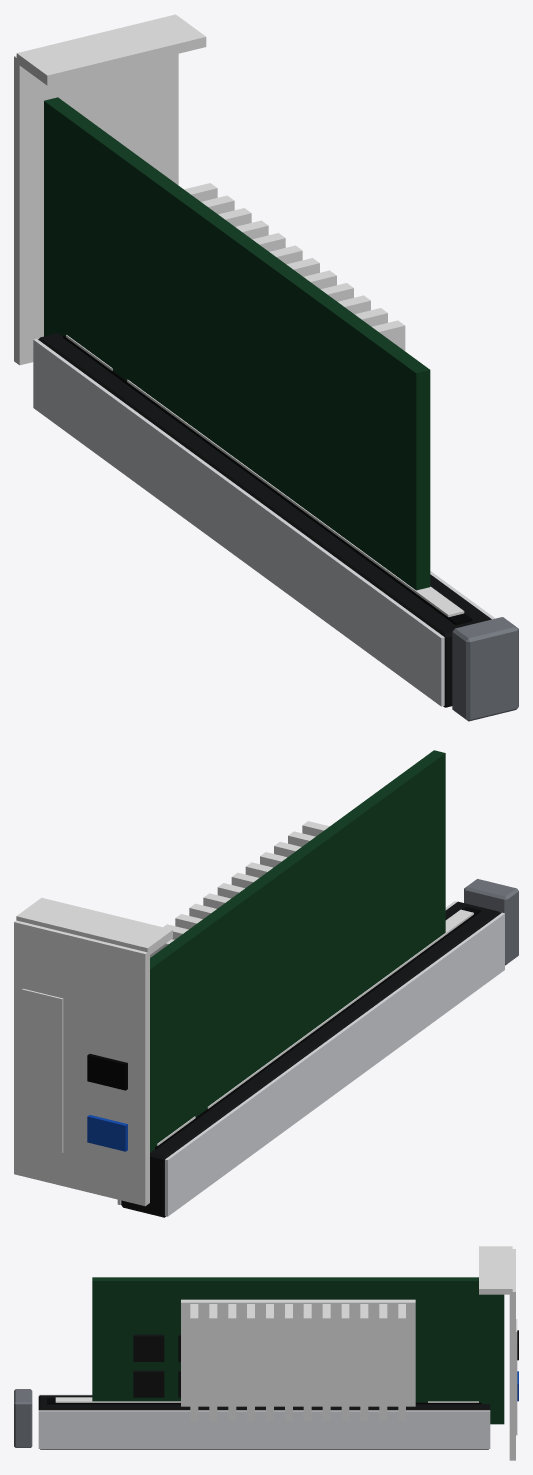
The model's file is hwm_gpu_gt710.glb.
3 renders of one model, top to bottom at view 1: azimuth 30°, elevation 25°; view 2: azimuth 150°, elevation 25°; view 3: azimuth 270°, elevation 25°, orthographic. The views are drawn at different scales.
Parts seen in each view (by area): view 1: Card_0, Slot_0; view 2: Card_0, Slot_0; view 3: Card_0, Slot_0.
Part boxes in pixels (box(x1,y1,x2,y2)): Card_0: box(14, 14, 464, 617); Slot_0: box(33, 333, 518, 721); Card_0: box(14, 750, 473, 1206); Slot_0: box(117, 879, 518, 1217); Card_0: box(55, 1246, 518, 1460); Slot_0: box(14, 1389, 490, 1449).
Size of the model in its own units: 0.0369 by 0.0741 by 0.179.
